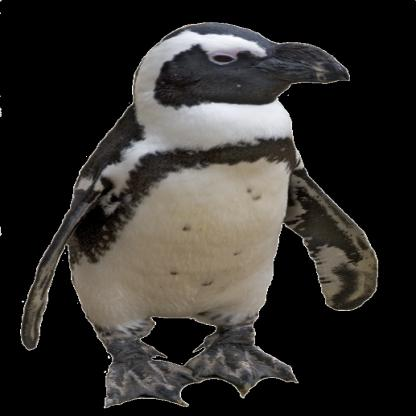Penguin: (14, 17, 392, 406)
